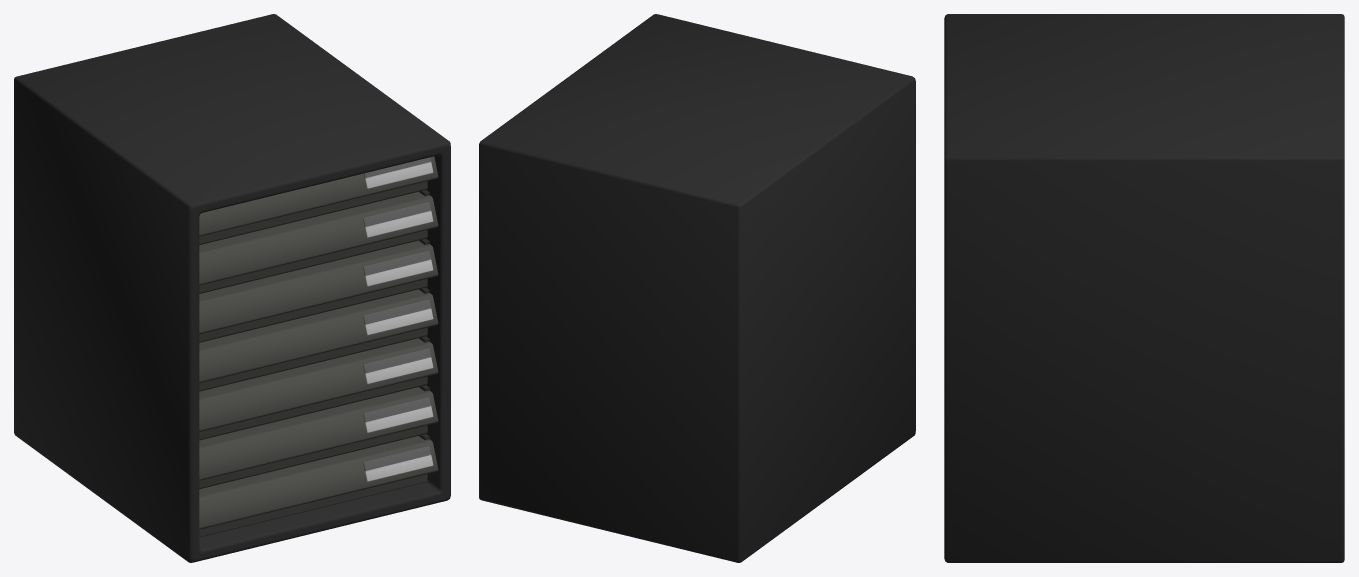
File: Case_A.fbx
3 views of the same model, side by side, from view 1: azimuth 30°, elevation 25°; view 2: azimuth 150°, elevation 25°; view 3: azimuth 270°, elevation 25° (orthographic). The views are drawn at different scales.
Parts seen in each view (by area): view 1: Case_A; view 2: Case_A; view 3: Case_A.
Part boxes in pixels (x1,y1,x2,y2): Case_A: (14,14,450,562); Case_A: (479,14,915,562); Case_A: (944,14,1344,562).
Bounding box in the file's own units: 0.2848 × 0.3724 × 0.3325.
